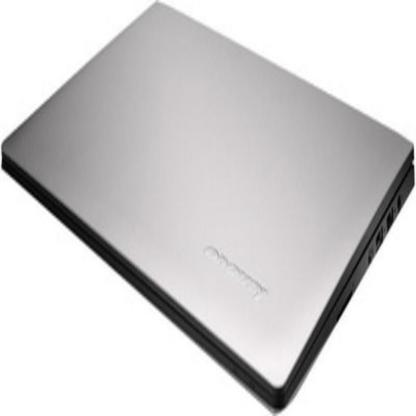board: (6, 0, 416, 413)
